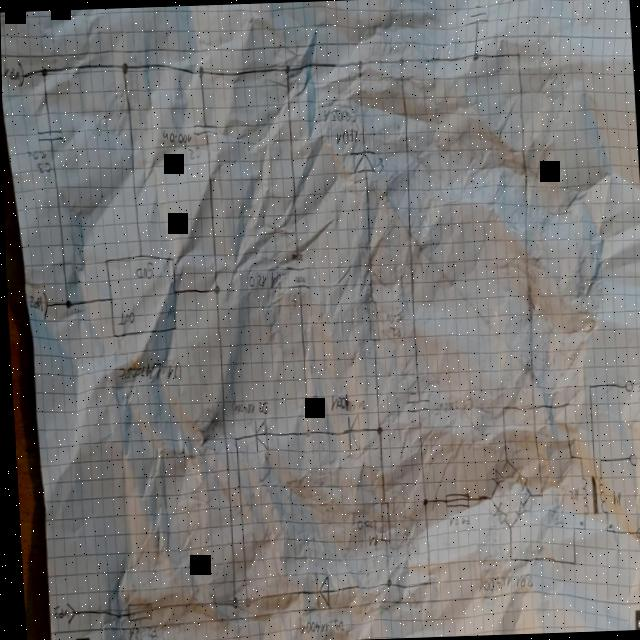capacitor: (401, 389, 429, 426), (34, 127, 64, 144), (191, 121, 218, 138)
crossover: (527, 402, 534, 414)
diode: (347, 147, 384, 178), (310, 568, 328, 612), (343, 412, 359, 452), (250, 416, 266, 454), (488, 464, 506, 489), (489, 501, 506, 526), (511, 468, 525, 490), (511, 499, 526, 519)
ground: (461, 2, 488, 28)
junction: (118, 60, 129, 76), (195, 64, 205, 80), (227, 594, 237, 610), (281, 62, 290, 76), (240, 594, 249, 608), (39, 65, 47, 79), (470, 51, 479, 62), (373, 424, 381, 436), (63, 298, 70, 310), (397, 56, 404, 66), (420, 497, 426, 507), (382, 578, 388, 588), (356, 59, 362, 69), (302, 428, 308, 438), (514, 50, 520, 60), (212, 285, 218, 294), (505, 556, 511, 564), (502, 457, 507, 466), (230, 436, 235, 444), (505, 524, 510, 532), (525, 490, 530, 498), (602, 526, 607, 534), (569, 558, 573, 566), (596, 456, 600, 464), (536, 491, 540, 499), (486, 494, 490, 502), (569, 524, 573, 532), (561, 401, 565, 409), (567, 452, 571, 459), (576, 454, 580, 461), (585, 384, 589, 391), (499, 405, 503, 412), (425, 580, 429, 586), (580, 526, 584, 532)
resistor: (375, 500, 389, 543), (365, 298, 378, 342)
source: (282, 250, 311, 310)
terminal: (38, 290, 48, 321), (62, 601, 72, 624), (16, 61, 24, 88), (632, 526, 640, 542), (622, 378, 631, 392), (625, 452, 634, 466)
text: (112, 360, 161, 383), (474, 572, 509, 595), (320, 105, 356, 126), (160, 128, 192, 147), (295, 617, 326, 636), (332, 127, 359, 148), (327, 392, 354, 412), (431, 396, 457, 414), (542, 507, 562, 528), (163, 358, 181, 381), (229, 400, 253, 417), (244, 272, 266, 290), (510, 572, 530, 590), (1, 60, 18, 81), (266, 269, 282, 291), (352, 516, 374, 532), (133, 263, 152, 280), (115, 310, 134, 326), (24, 148, 45, 162), (382, 310, 401, 325), (49, 603, 65, 620), (26, 294, 41, 312), (34, 159, 51, 174), (141, 624, 155, 640), (328, 616, 342, 632), (458, 394, 472, 410), (253, 399, 267, 415), (162, 303, 174, 320), (609, 488, 620, 506), (386, 325, 400, 339), (124, 625, 137, 640), (187, 146, 200, 160), (564, 486, 576, 501), (444, 515, 456, 527), (457, 514, 467, 528), (365, 532, 375, 546), (354, 398, 364, 411), (633, 378, 640, 392), (636, 448, 640, 466), (639, 524, 640, 542)
transformer: (574, 469, 610, 526)
